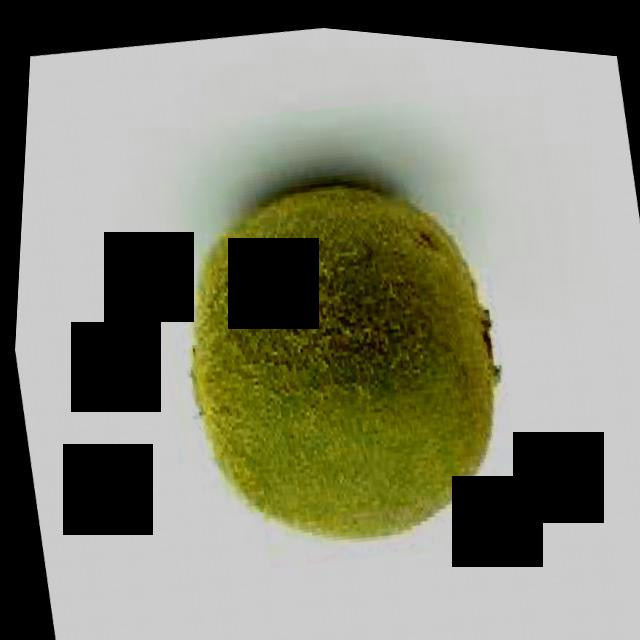kiwi: (147, 142, 533, 579)
